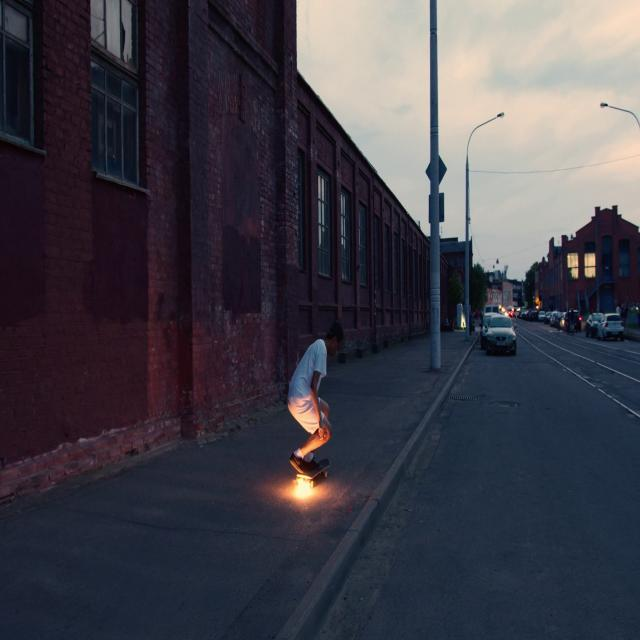Fire: (288, 471, 318, 508)
